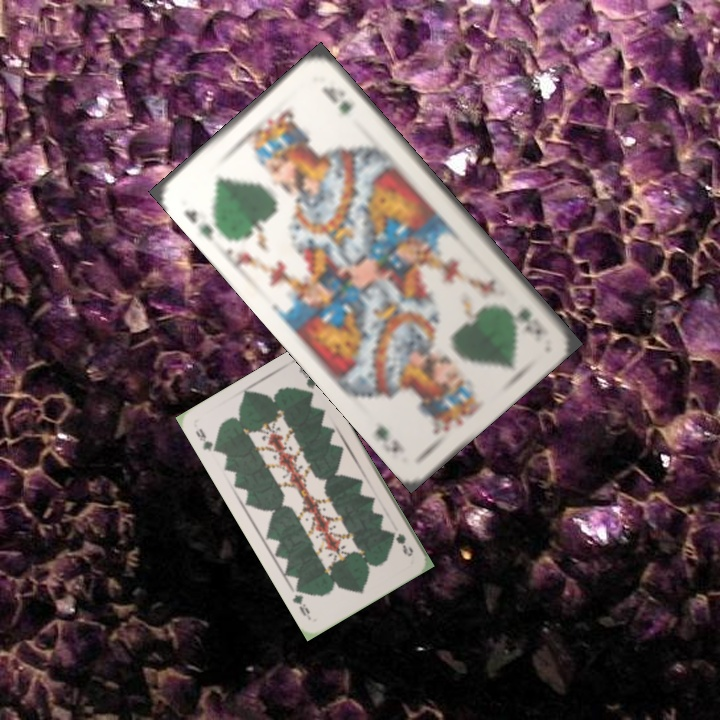G9: (191, 424, 222, 455), (387, 527, 416, 559)
GK: (180, 205, 217, 244), (513, 303, 545, 338)
